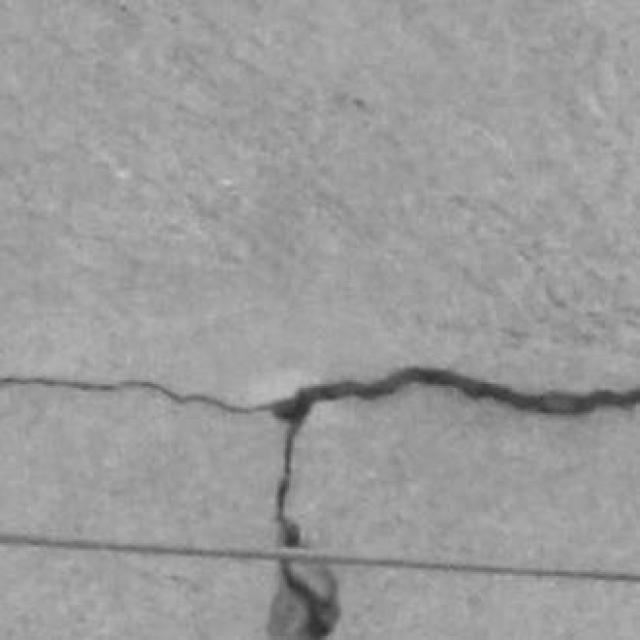crack: (0, 367, 639, 546), (0, 377, 263, 413)
